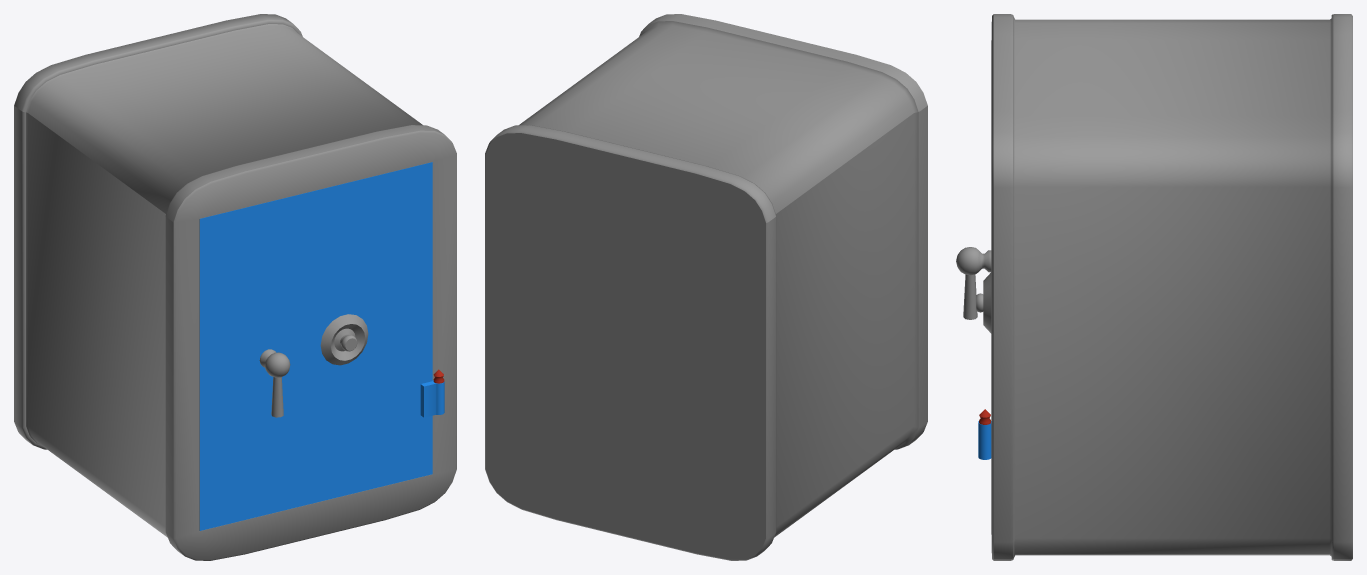
Rendered from Safe_mesh.FBX.
The picture shows the model from 3 angles, left to right: view 1: azimuth 30°, elevation 25°; view 2: azimuth 150°, elevation 25°; view 3: azimuth 270°, elevation 25°; orthographic projection. The views are drawn at different scales.
Parts seen in each view (by area): view 1: Door_low; view 2: Door_low; view 3: Door_low.
Part boxes in pixels (<box>): Door_low: <box>14,14,456,560</box>; Door_low: <box>485,14,927,560</box>; Door_low: <box>956,14,1352,560</box>.
Bounding box in the file's own units: 39.86 × 51.48 × 43.15.
